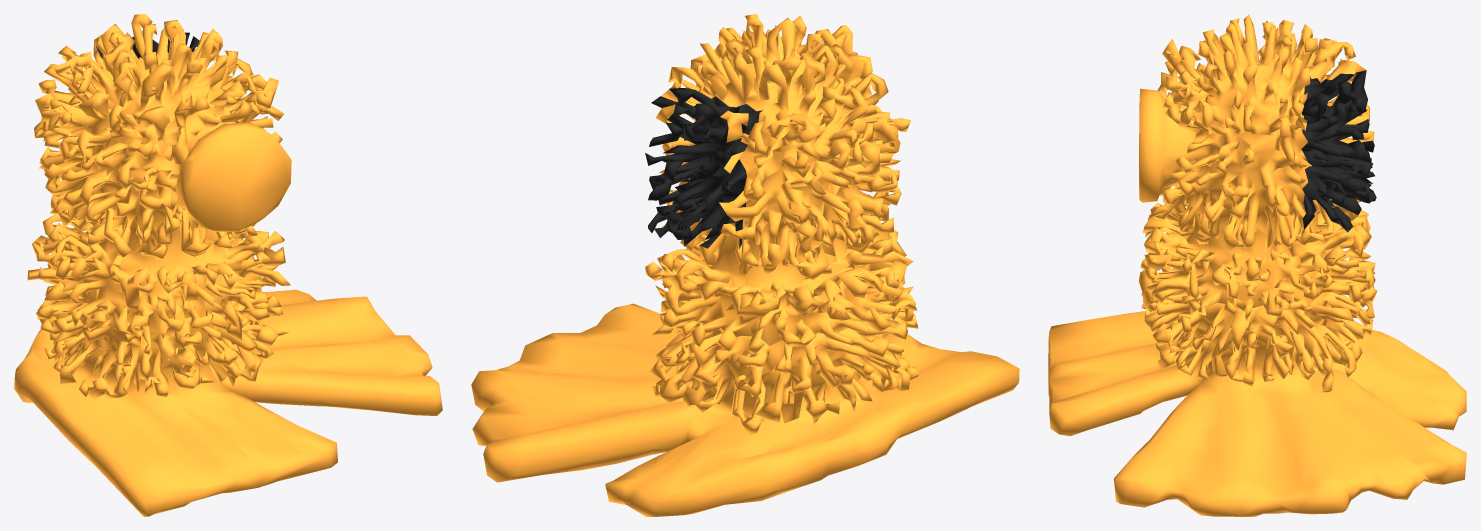
The model's file is kora.glb.
3 views of the same model, side by side, from view 1: azimuth 30°, elevation 25°; view 2: azimuth 150°, elevation 25°; view 3: azimuth 270°, elevation 25° (orthographic). The views are drawn at different scales.
Visible parts, largest first — view 1: Kora_Body, Kora_Base; view 2: Kora_Base, Kora_Body, Eye_Cyclops; view 3: Kora_Base, Kora_Body, Eye_Cyclops.
Boxes of the visible parts, x1,y1,x2,y2 form: Kora_Body: [27, 14, 291, 337]; Kora_Base: [14, 264, 442, 516]; Kora_Base: [471, 287, 1019, 516]; Kora_Body: [645, 14, 917, 353]; Eye_Cyclops: [645, 88, 762, 248]; Kora_Base: [1048, 257, 1466, 516]; Kora_Body: [1138, 14, 1375, 321]; Eye_Cyclops: [1301, 70, 1376, 232].
Bounding box in the file's own units: 1.99 × 1.96 × 1.99.
